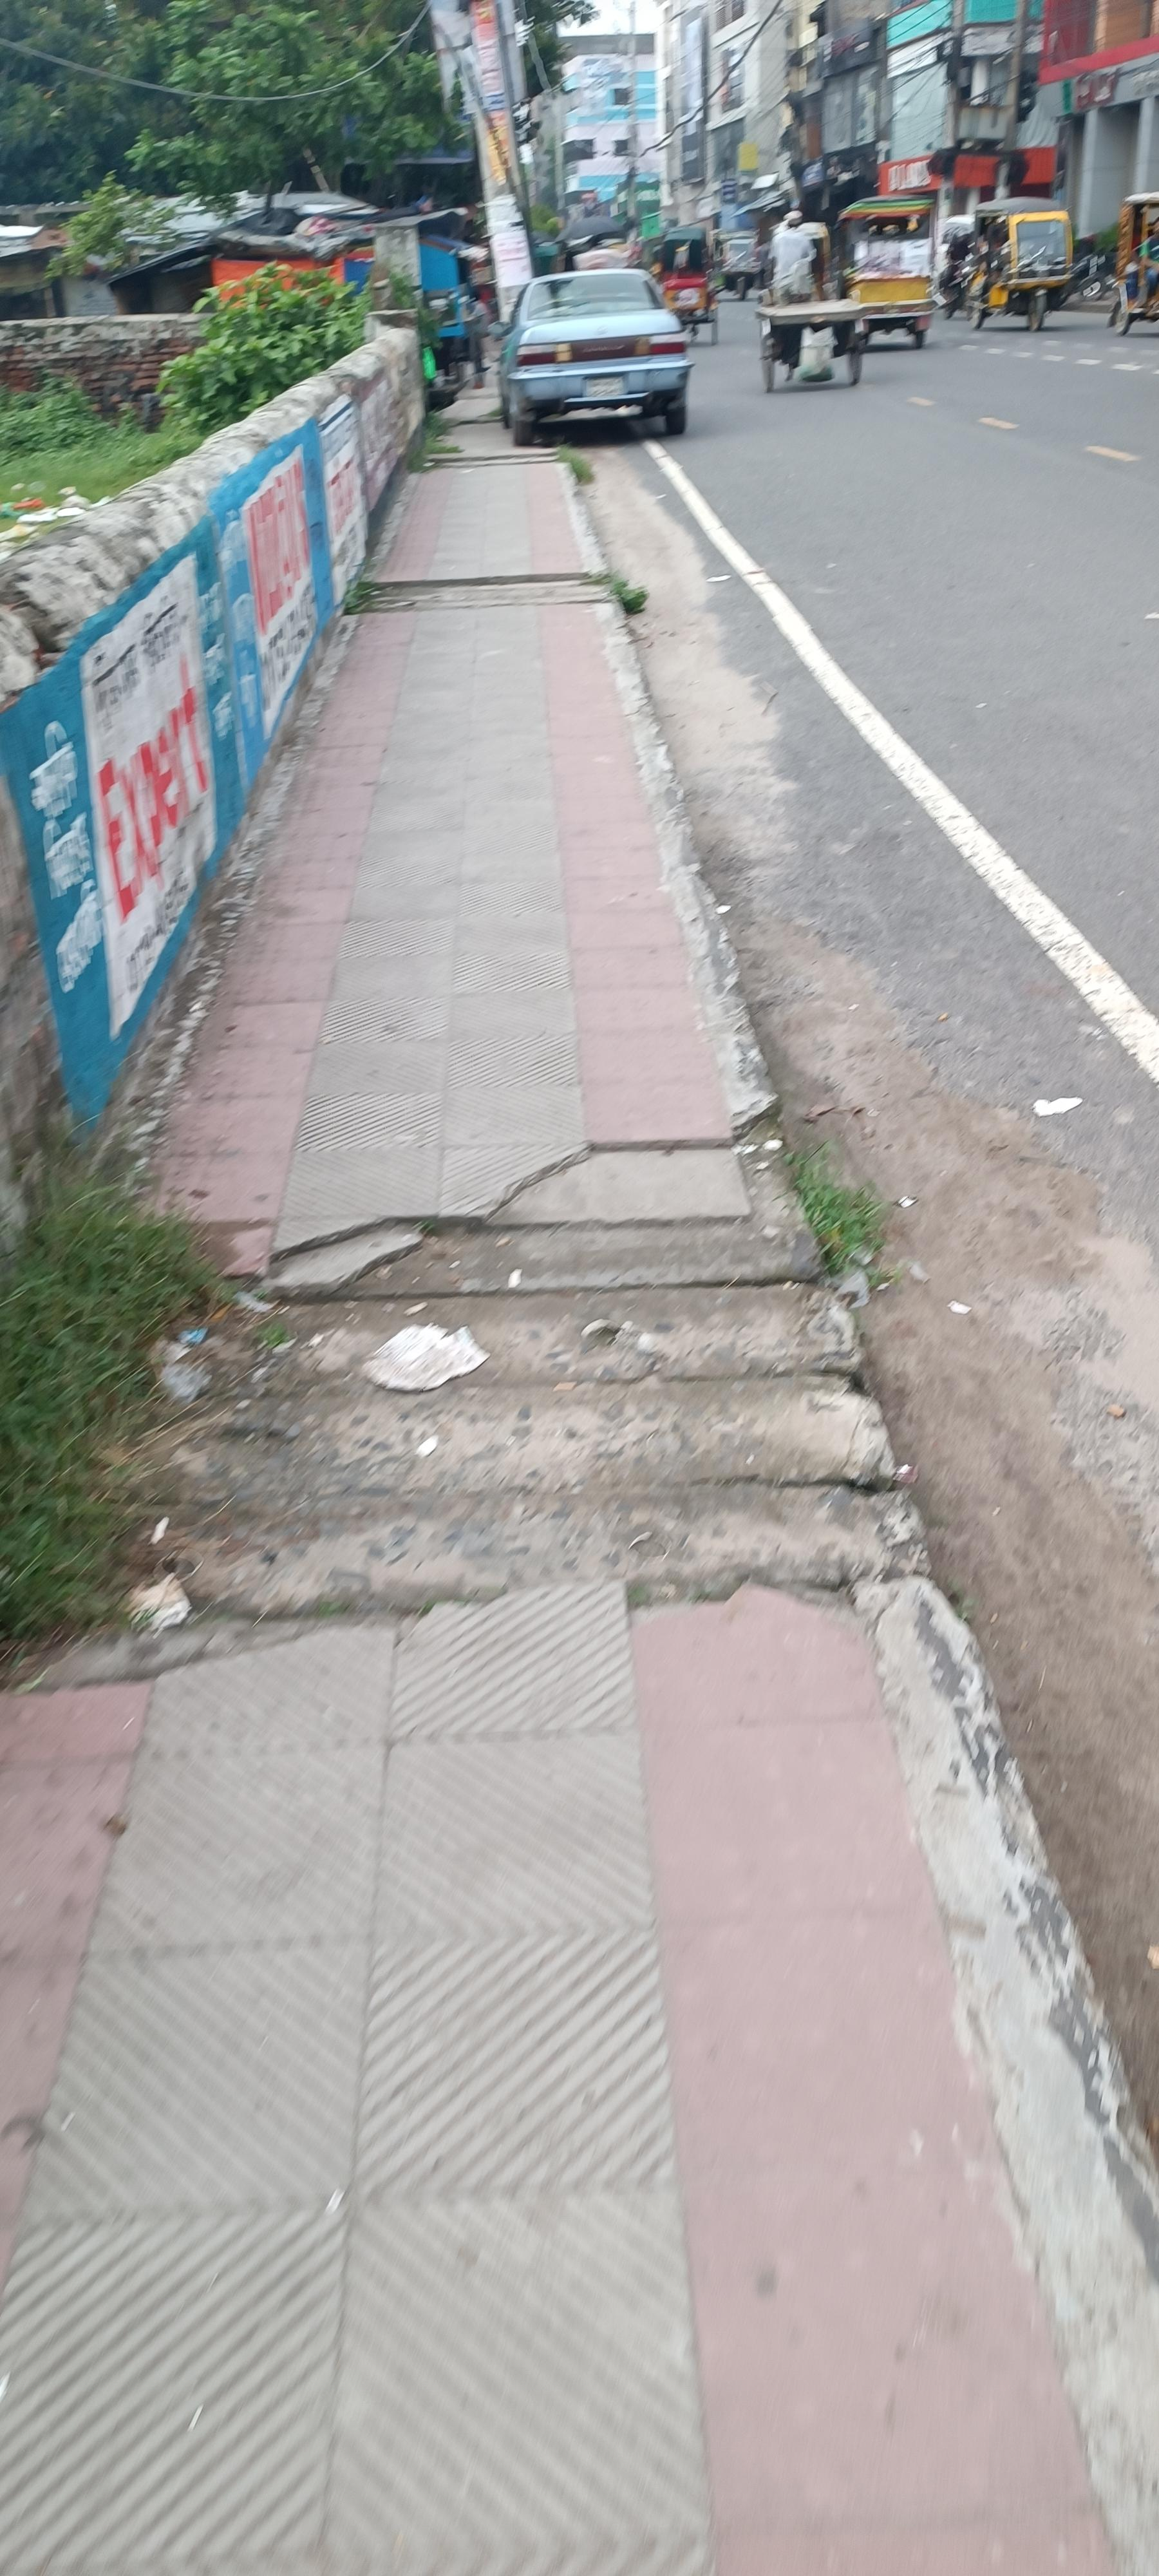Broken-road: (458, 238, 747, 476)
Garbage: (754, 297, 870, 391)
Garbage-bin: (770, 209, 819, 375)
Pothole: (7, 365, 1128, 2568)
Traffic-cone: (834, 194, 937, 348)
